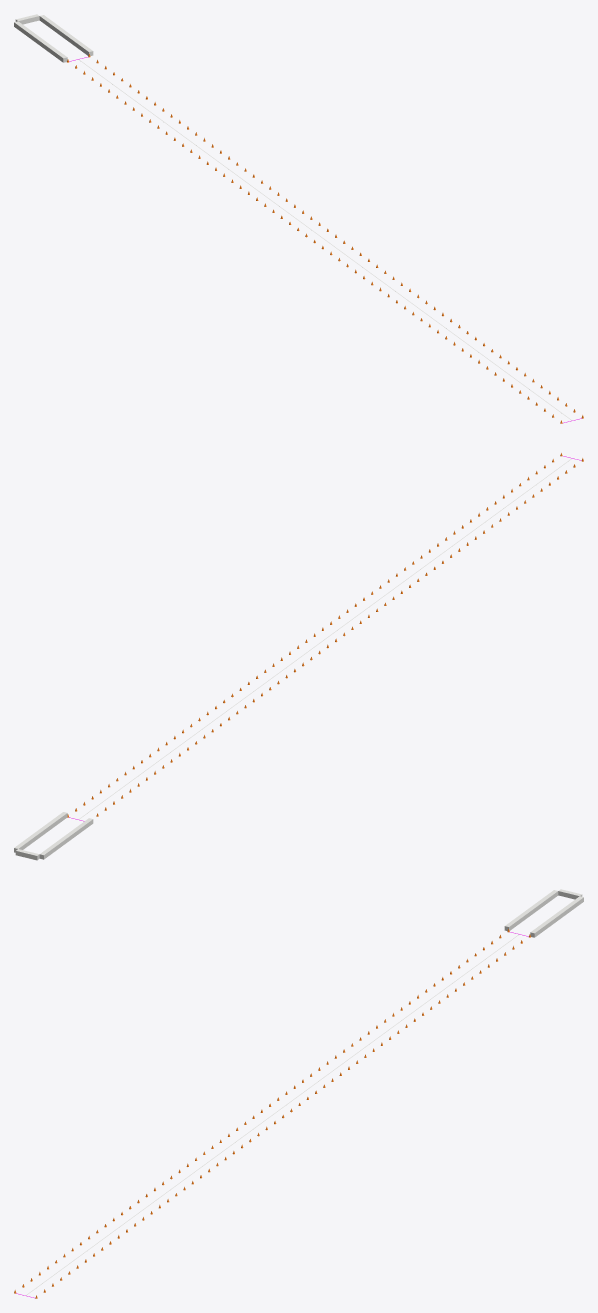
Rendered from dragRaceTrack.dae.
3 views of the same model, one above another, from view 1: azimuth 30°, elevation 25°; view 2: azimuth 150°, elevation 25°; view 3: azimuth 330°, elevation 25° (orthographic).
Visible parts, largest first — view 1: Box_Powder_Coat_-_Rough_(White), Middle_Paint_-_Enamel_Glossy_(White); view 2: Box_Powder_Coat_-_Rough_(White), Middle_Paint_-_Enamel_Glossy_(White); view 3: Box_Powder_Coat_-_Rough_(White), Middle_Paint_-_Enamel_Glossy_(White).
Part boxes in pixels (bbox=[...]): Box_Powder_Coat_-_Rough_(White): bbox=[14, 14, 93, 62]; Middle_Paint_-_Enamel_Glossy_(White): bbox=[78, 59, 571, 420]; Box_Powder_Coat_-_Rough_(White): bbox=[14, 812, 93, 860]; Middle_Paint_-_Enamel_Glossy_(White): bbox=[78, 458, 571, 819]; Box_Powder_Coat_-_Rough_(White): bbox=[504, 889, 583, 937]; Middle_Paint_-_Enamel_Glossy_(White): bbox=[26, 934, 519, 1295].
Size of the model in its own units: 2.1 by 66.42 by 0.3.
